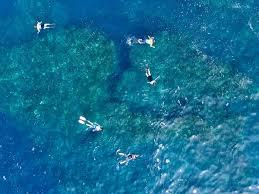Person: (77, 115, 104, 134), (127, 34, 156, 48), (144, 66, 162, 86), (118, 151, 140, 166), (33, 20, 55, 33)
